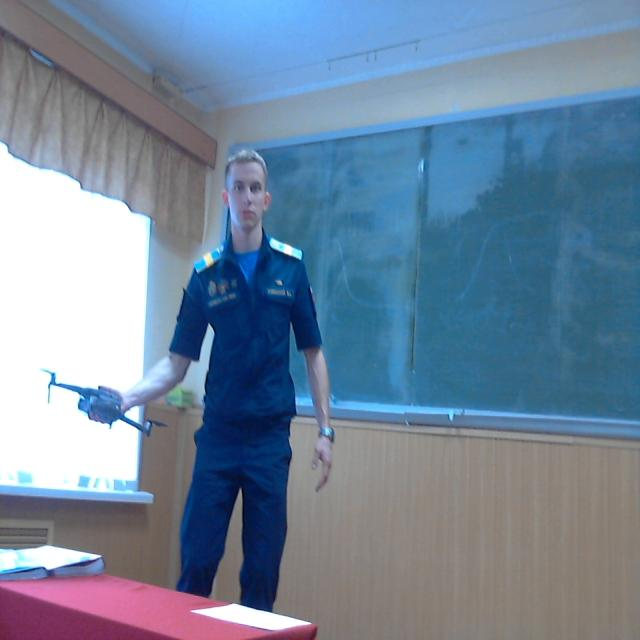drone: (35, 351, 177, 451)
